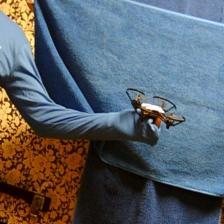drone: (126, 86, 188, 133)
